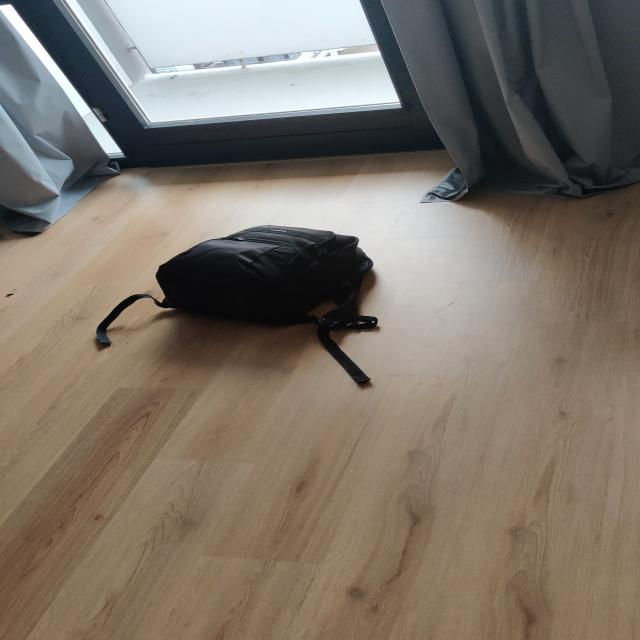backpack: (152, 219, 382, 333)
